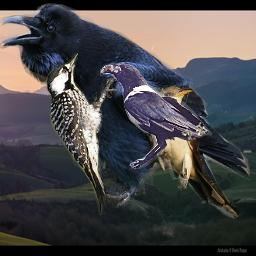Crow: (0, 3, 250, 219), (100, 63, 212, 169)
Cuckoo: (148, 85, 242, 220)
Woodpecker: (46, 53, 121, 215)
